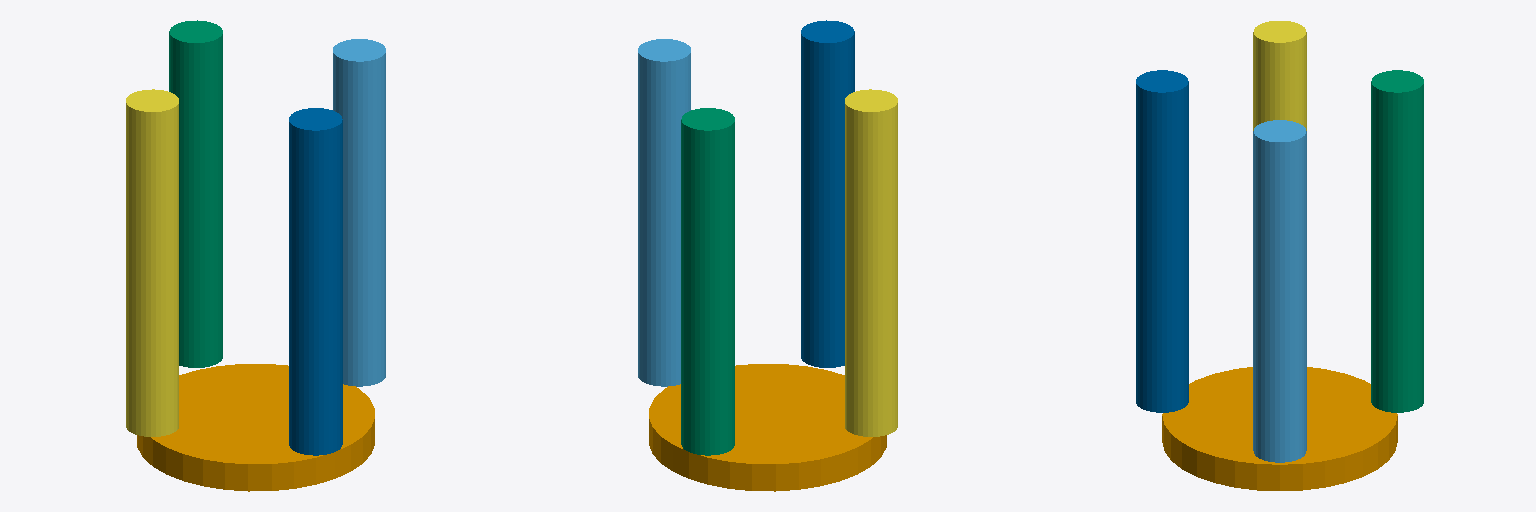
URDF robot description (Industrial_Pick-and-Place):
<?xml version="1.0"?>
<robot name="Industrial_Pick-and-Place">

    <link name="palm_link">
        <visual>
            <geometry>
                <cylinder radius="0.0400" length="0.0100"/>
            </geometry>
        </visual>
        <collision>
            <geometry>
                <cylinder radius="0.0400" length="0.0100"/>
            </geometry>
        </collision>
    </link>

    
    <link name="finger_0_link">
        <visual>
            <geometry>
                <cylinder radius="0.0090" length="0.1200"/>
            </geometry>
            <origin xyz="0 0 0.0600"/>
        </visual>
        <collision>
            <geometry>
                <cylinder radius="0.0090" length="0.1200"/>
            </geometry>
            <origin xyz="0 0 0.0600"/>
        </collision>
    </link>

    <joint name="finger_0_joint" type="revolute">
        <parent link="palm_link"/>
        <child link="finger_0_link"/>
        <origin xyz="0.0400 0.0000 0.0100" rpy="0 0 0.0000"/>
        <axis xyz="0 1 0"/>
        <limit lower="-1.57" upper="1.57" effort="10" velocity="1"/>
    </joint>

    <link name="finger_1_link">
        <visual>
            <geometry>
                <cylinder radius="0.0090" length="0.1200"/>
            </geometry>
            <origin xyz="0 0 0.0600"/>
        </visual>
        <collision>
            <geometry>
                <cylinder radius="0.0090" length="0.1200"/>
            </geometry>
            <origin xyz="0 0 0.0600"/>
        </collision>
    </link>

    <joint name="finger_1_joint" type="revolute">
        <parent link="palm_link"/>
        <child link="finger_1_link"/>
        <origin xyz="0.0000 0.0400 0.0100" rpy="0 0 1.5708"/>
        <axis xyz="0 1 0"/>
        <limit lower="-1.57" upper="1.57" effort="10" velocity="1"/>
    </joint>

    <link name="finger_2_link">
        <visual>
            <geometry>
                <cylinder radius="0.0090" length="0.1200"/>
            </geometry>
            <origin xyz="0 0 0.0600"/>
        </visual>
        <collision>
            <geometry>
                <cylinder radius="0.0090" length="0.1200"/>
            </geometry>
            <origin xyz="0 0 0.0600"/>
        </collision>
    </link>

    <joint name="finger_2_joint" type="revolute">
        <parent link="palm_link"/>
        <child link="finger_2_link"/>
        <origin xyz="-0.0400 0.0000 0.0100" rpy="0 0 3.1416"/>
        <axis xyz="0 1 0"/>
        <limit lower="-1.57" upper="1.57" effort="10" velocity="1"/>
    </joint>

    <link name="finger_3_link">
        <visual>
            <geometry>
                <cylinder radius="0.0090" length="0.1200"/>
            </geometry>
            <origin xyz="0 0 0.0600"/>
        </visual>
        <collision>
            <geometry>
                <cylinder radius="0.0090" length="0.1200"/>
            </geometry>
            <origin xyz="0 0 0.0600"/>
        </collision>
    </link>

    <joint name="finger_3_joint" type="revolute">
        <parent link="palm_link"/>
        <child link="finger_3_link"/>
        <origin xyz="-0.0000 -0.0400 0.0100" rpy="0 0 4.7124"/>
        <axis xyz="0 1 0"/>
        <limit lower="-1.57" upper="1.57" effort="10" velocity="1"/>
    </joint>

</robot>

--- What the picture shows (computed from the rendered views, not written in the file) ---
Views: 3 orthographic renders of the robot side by side, from view 1: azimuth 30°, elevation 25°; view 2: azimuth 150°, elevation 25°; view 3: azimuth 270°, elevation 25°.
Robot: Industrial_Pick-and-Place — 5 links, 4 joints (4 revolute); root link palm_link; default pose: all joints at 0.
Visible links, largest first — view 1: palm_link, finger_3_link, finger_2_link, finger_1_link, finger_0_link; view 2: palm_link, finger_1_link, finger_2_link, finger_3_link, finger_0_link; view 3: palm_link, finger_0_link, finger_1_link, finger_3_link, finger_2_link.
Boxes of the visible links, x1,y1,x2,y2 form: palm_link: (137,364,374,491); finger_3_link: (289,108,342,455); finger_2_link: (126,89,178,436); finger_1_link: (169,20,222,367); finger_0_link: (333,39,385,386); palm_link: (649,364,886,491); finger_1_link: (681,108,734,455); finger_2_link: (845,89,897,436); finger_3_link: (801,20,854,367); finger_0_link: (638,39,690,386); palm_link: (1162,367,1397,490); finger_0_link: (1253,120,1306,462); finger_1_link: (1371,70,1423,412); finger_3_link: (1136,70,1188,412); finger_2_link: (1253,21,1306,130).
Bounding box of the posed robot: 0.098 × 0.098 × 0.135 m (x, y, z).
Geometry: primitives only (box / cylinder / sphere), no mesh files.